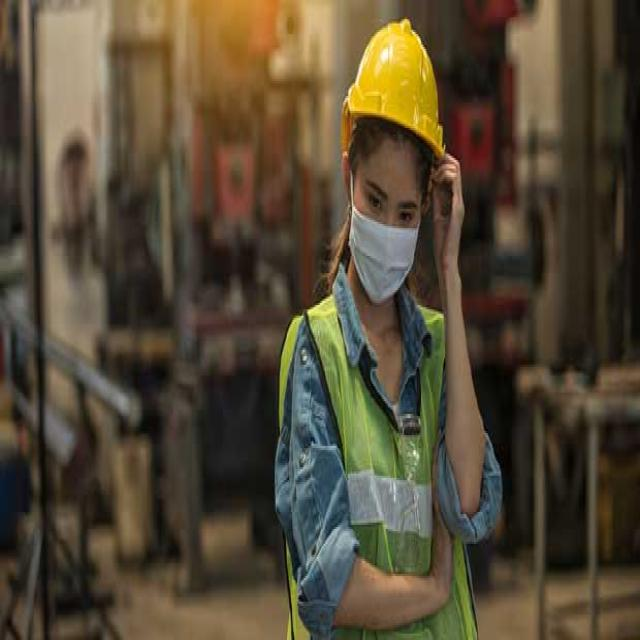helmet: (336, 15, 454, 183)
no-goggles: (350, 148, 441, 240)
vest: (277, 283, 480, 640)
